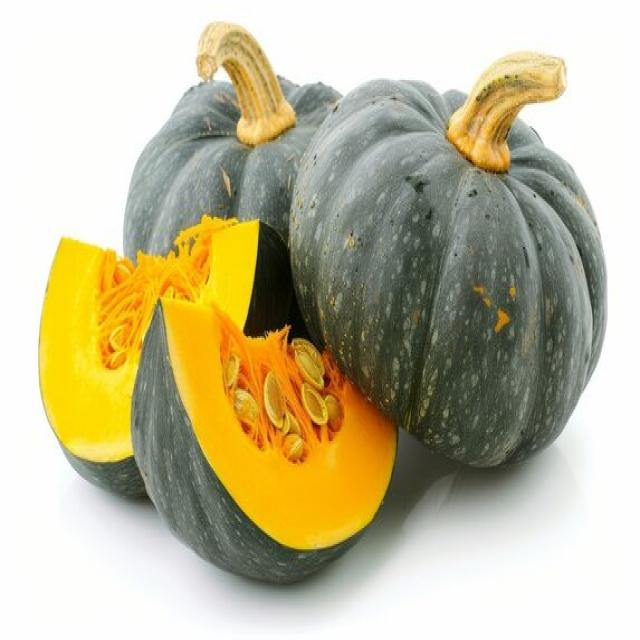Pumpkin: (287, 48, 608, 469), (128, 293, 398, 585), (37, 213, 303, 500), (122, 18, 343, 268)
